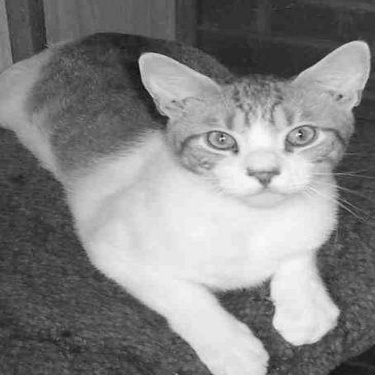cat: (1, 42, 368, 367)
